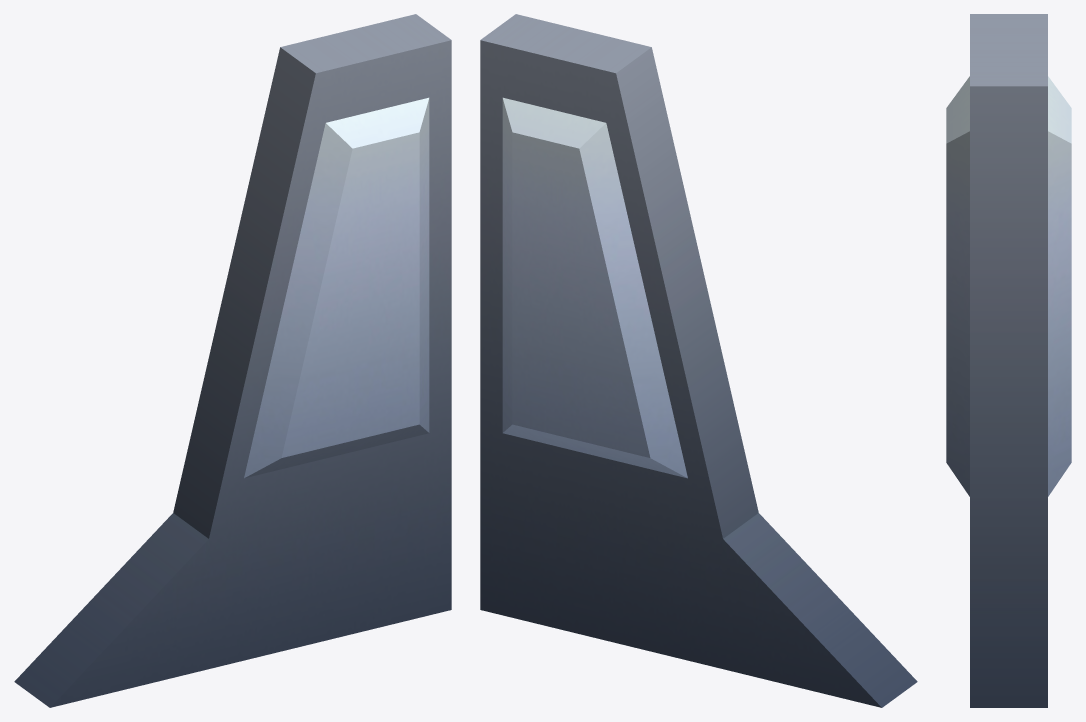
The model's file is Sight5.FBX.
The picture shows the model from 3 angles, left to right: view 1: azimuth 30°, elevation 25°; view 2: azimuth 150°, elevation 25°; view 3: azimuth 270°, elevation 25°; orthographic projection. The views are drawn at different scales.
Visible parts, largest first — view 1: Box021; view 2: Box021; view 3: Box021.
Boxes of the visible parts, x1=… form: Box021: x1=14, y1=14, x2=451, y2=707; Box021: x1=480, y1=14, x2=917, y2=707; Box021: x1=946, y1=14, x2=1071, y2=707.
Bounding box in the file's own units: 2.21 × 2.99 × 0.5465.
